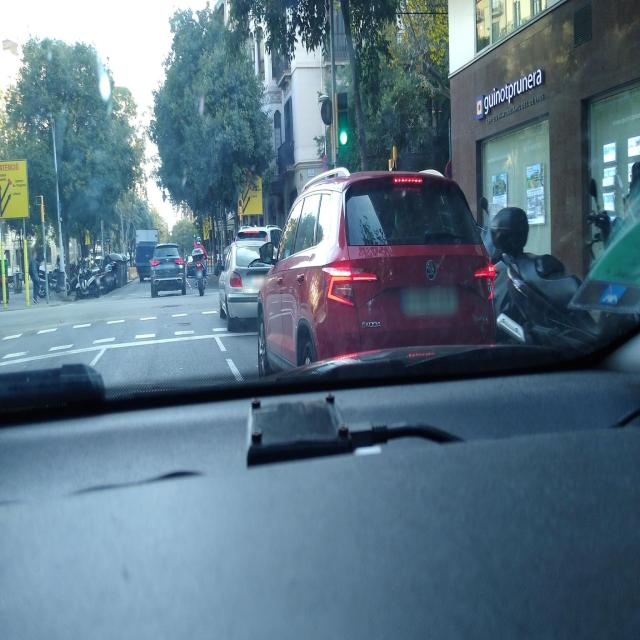bike: (76, 267, 102, 298), (92, 256, 113, 292), (194, 263, 207, 297)
car: (256, 166, 497, 375), (218, 225, 281, 332), (150, 242, 188, 298)
